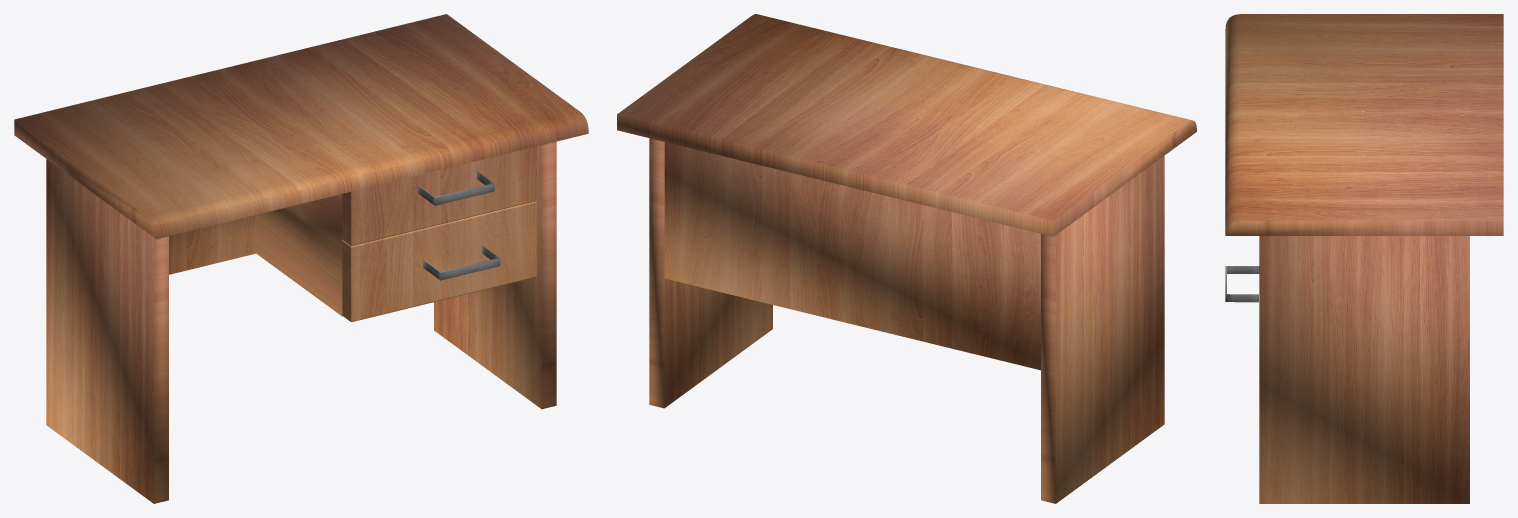
The model's file is DesktopTable.obj.
3 views of the same model, side by side, from view 1: azimuth 30°, elevation 25°; view 2: azimuth 150°, elevation 25°; view 3: azimuth 270°, elevation 25° (orthographic). The views are drawn at different scales.
Parts seen in each view (by area): view 1: topdesk, desktop_table, drawer_2, drawers, drawer_1, C_handle2, C_handle1; view 2: topdesk, drawers, desktop_table; view 3: topdesk, desktop_table, C_handle2.
Part boxes in pixels (x1,y1,x2,y2): topdesk: [14, 14, 588, 239]; desktop_table: [46, 141, 556, 503]; drawer_2: [342, 201, 536, 321]; drawers: [169, 194, 342, 316]; drawer_1: [342, 146, 536, 245]; C_handle2: [423, 246, 500, 280]; C_handle1: [418, 171, 494, 205]; topdesk: [617, 14, 1196, 236]; drawers: [664, 142, 1040, 370]; desktop_table: [649, 138, 1164, 503]; topdesk: [1225, 14, 1503, 235]; desktop_table: [1259, 236, 1469, 503]; C_handle2: [1225, 266, 1259, 302].
Bounding box in the file's own units: 58 × 38.02 × 33.01.
